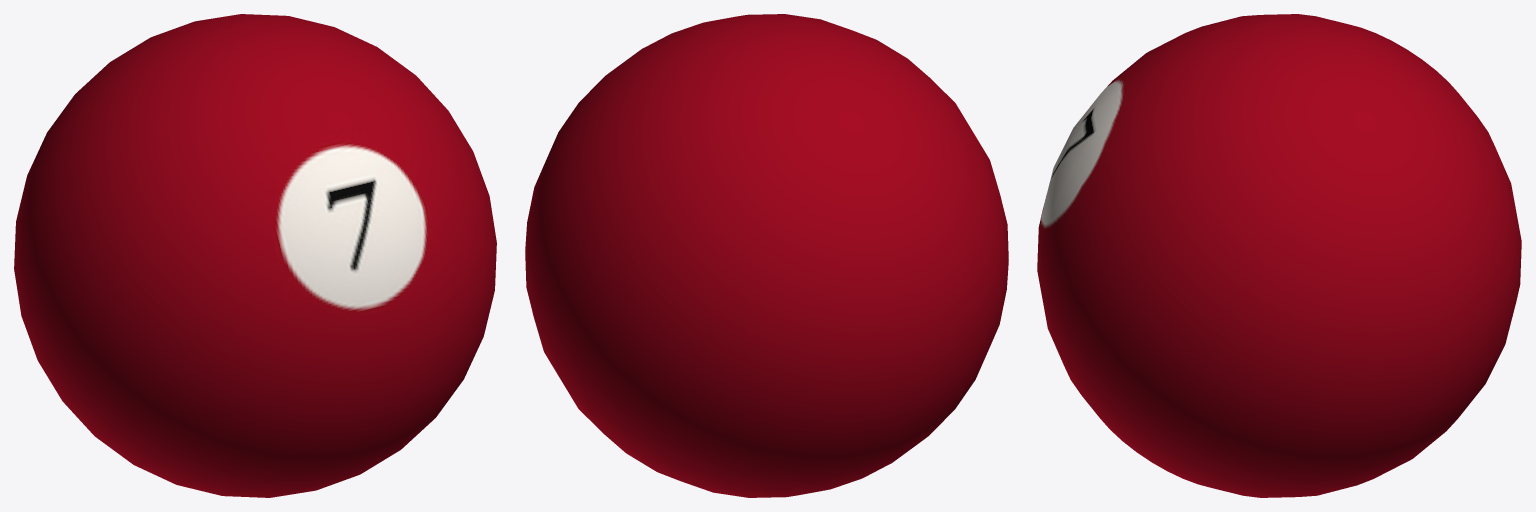
Rendered from brown.glb.
3 renders of one model, left to right at view 1: azimuth 30°, elevation 25°; view 2: azimuth 150°, elevation 25°; view 3: azimuth 270°, elevation 25°, orthographic.
Visible parts, largest first — view 1: Ball7_13 - Default_0; view 2: Ball7_13 - Default_0; view 3: Ball7_13 - Default_0.
Part boxes in pixels (left/top/right/bottom): Ball7_13 - Default_0: left=14, top=14, right=496, bottom=497; Ball7_13 - Default_0: left=525, top=14, right=1008, bottom=497; Ball7_13 - Default_0: left=1037, top=14, right=1521, bottom=497.
Bounding box in the file's own units: 37.86 × 37.78 × 37.78.
1 material, 1 textured.
